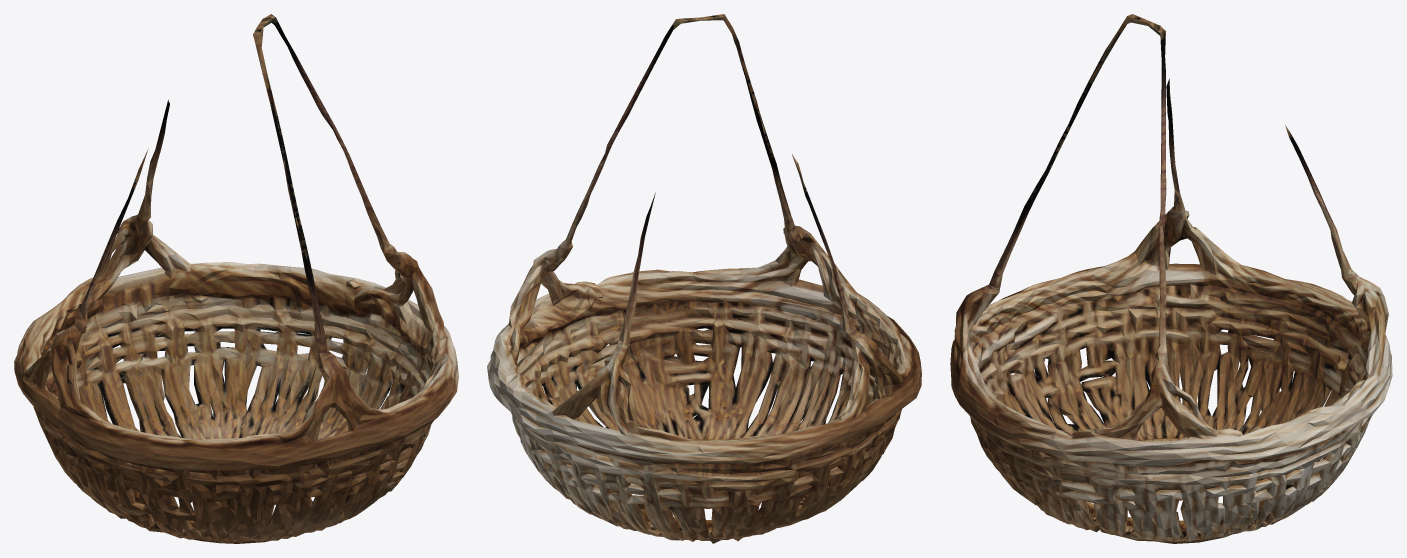
Rendered from palm-fiber-hanging-basket-rustic.jpeg.glb.
3 renders of one model, left to right at view 1: azimuth 30°, elevation 25°; view 2: azimuth 150°, elevation 25°; view 3: azimuth 270°, elevation 25°, orthographic. The views are drawn at different scales.
Visible parts, largest first — view 1: world; view 2: world; view 3: world.
Boxes of the visible parts, left/top/right/bottom form: world: left=14, top=14, right=458, bottom=543; world: left=487, top=14, right=921, bottom=543; world: left=950, top=14, right=1392, bottom=543.
Size of the model in its own units: 0.8238 by 1 by 0.8225.
Materials: 1 (1 with a texture image).
